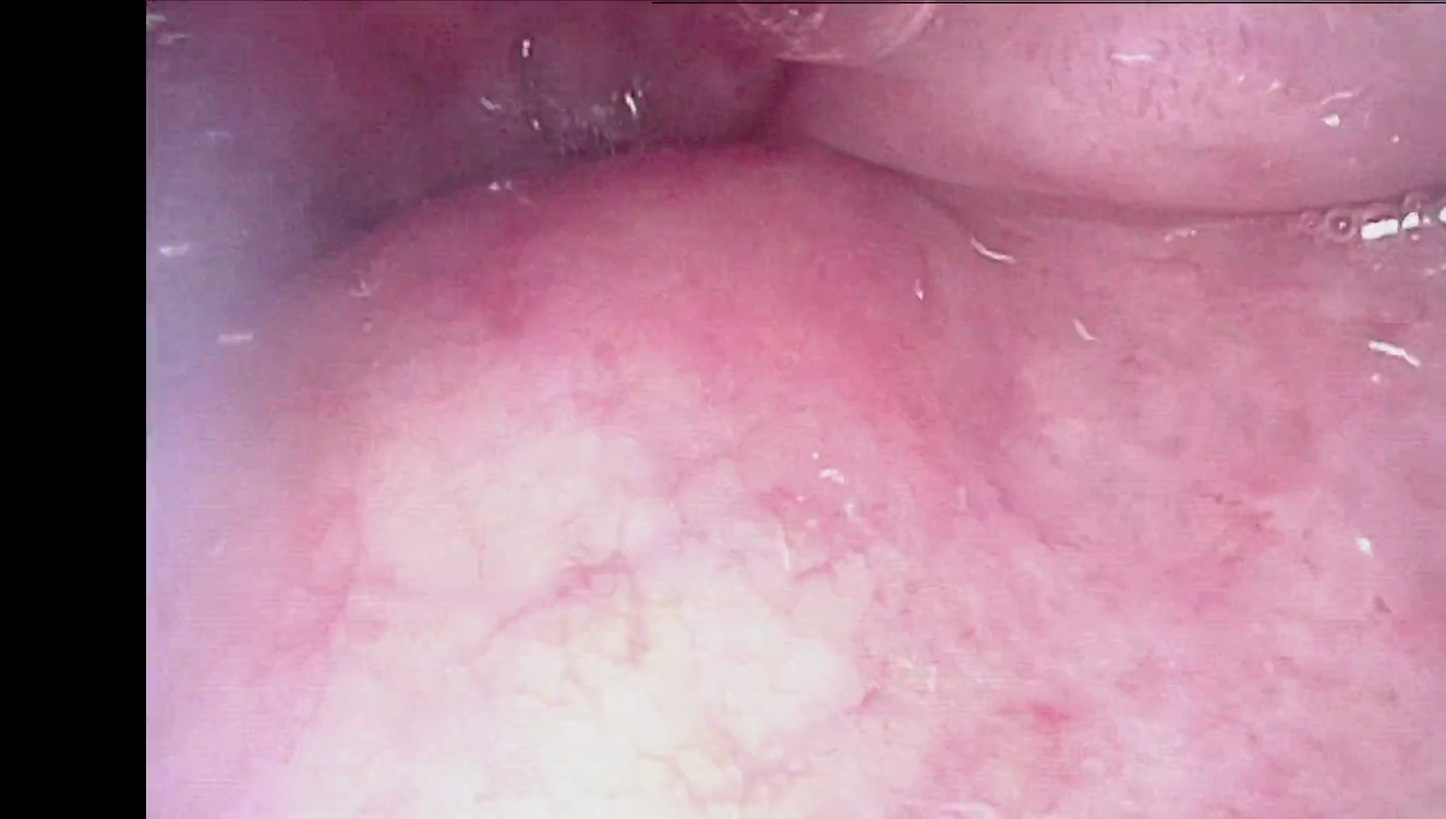close_wall: (221, 285, 1317, 819)
